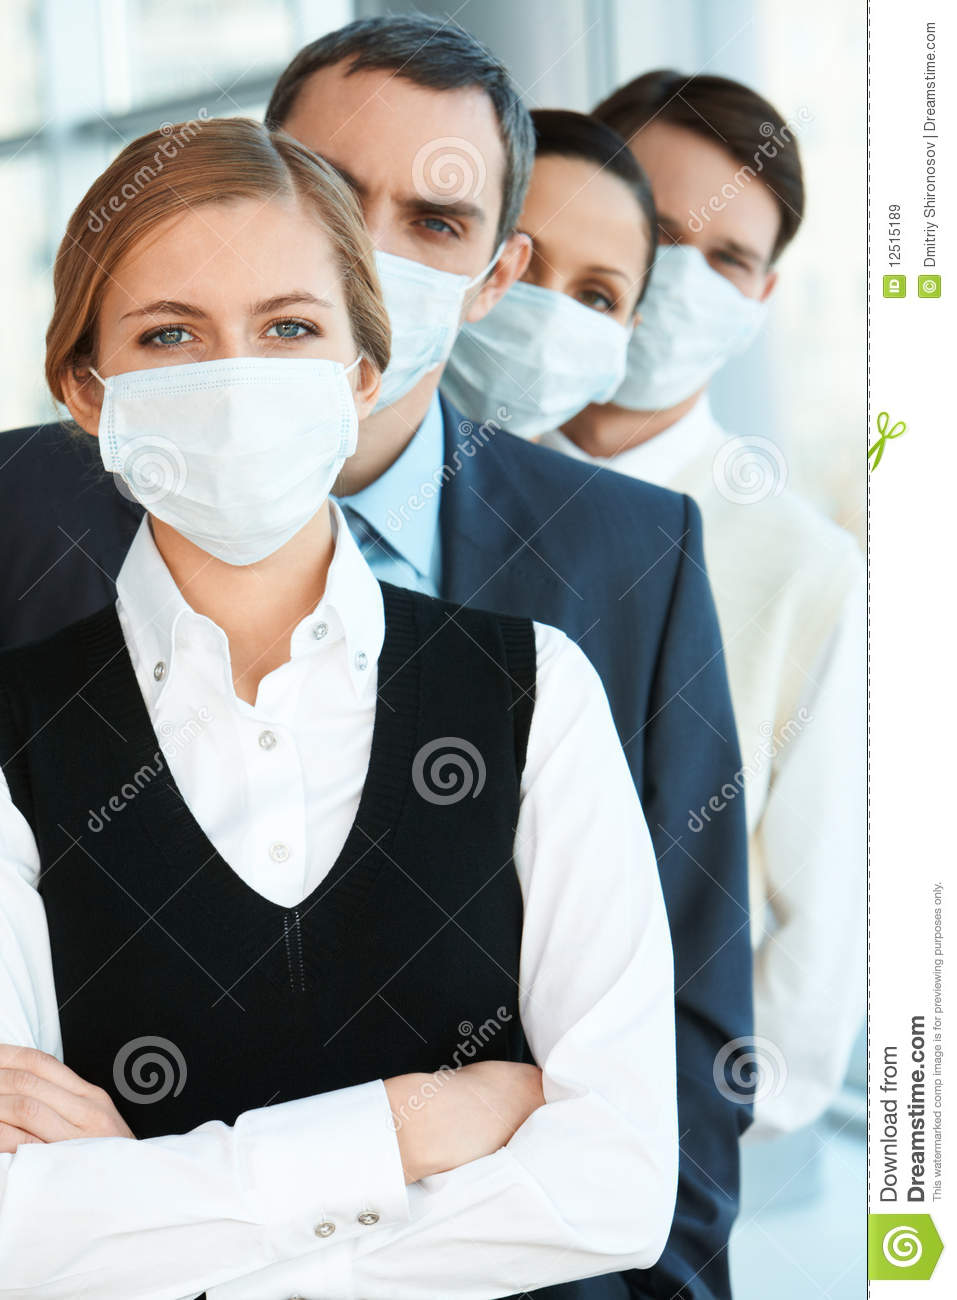mask: (105, 357, 357, 569)
